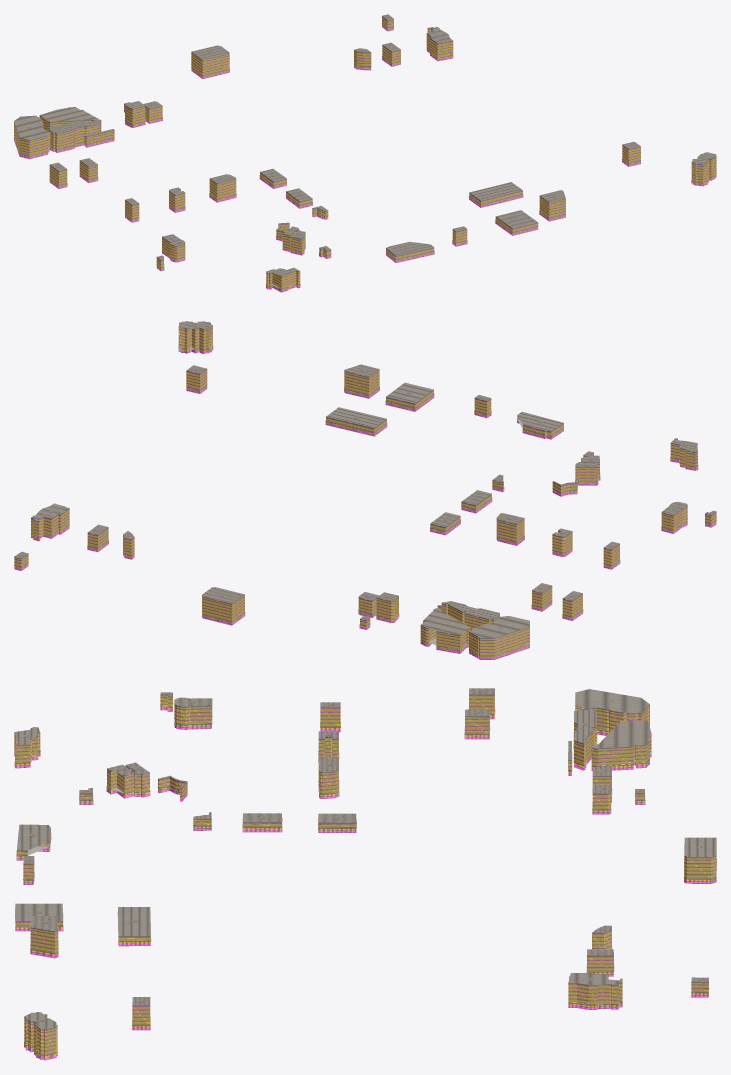
The model's file is urban-context-stage7.glb.
The picture shows the model from 3 angles, top to bottom: view 1: azimuth 30°, elevation 25°; view 2: azimuth 150°, elevation 25°; view 3: azimuth 270°, elevation 25°; orthographic projection. The views are drawn at different scales.
Visible parts, largest first — view 1: urban-context-Cms-786_544, urban-context-Cms-703_504, urban-context-Cr1021907, urban-context-Cw369461998, urban-context-Cms-676_567, urban-context-Cms221_515, urban-context-Cw1357107466, urban-context-Cw369464177, urban-context-Cw347233389, urban-context-Cms-673_-357, urban-context-Cw522127205, urban-context-Cw369085866 (+2 smaller); view 2: urban-context-Cms-786_544, urban-context-Cms-676_567, urban-context-Cr1021907, urban-context-Cw369461998, urban-context-Cms221_515, urban-context-Cw347233389, urban-context-Cw522127205, urban-context-Cw1357107466, urban-context-Cms-703_504, urban-context-Cw369464177, urban-context-Cw369085866, urban-context-Cms-673_-357 (+5 smaller); view 3: urban-context-Cms-676_567, urban-context-Cms-786_544, urban-context-Cms221_515, urban-context-Cr1021907, urban-context-Cw347233389, urban-context-Cw369461998, urban-context-Cms-703_504, urban-context-Cw625727566, urban-context-Cw522127205, urban-context-Cw369464177, urban-context-Cw1357107466, urban-context-Cms-673_-357 (+11 smaller).
Part boxes in pixels (x1,y1,x2,y2): urban-context-Cms-786_544: [14, 115, 50, 159]; urban-context-Cms-703_504: [49, 119, 101, 152]; urban-context-Cr1021907: [191, 45, 229, 78]; urban-context-Cw369461998: [469, 182, 523, 207]; urban-context-Cms-676_567: [39, 107, 98, 131]; urban-context-Cms221_515: [426, 27, 453, 61]; urban-context-Cw1357107466: [495, 210, 538, 235]; urban-context-Cw369464177: [386, 242, 434, 262]; urban-context-Cw347233389: [691, 152, 716, 186]; urban-context-Cms-673_-357: [266, 267, 300, 292]; urban-context-Cw522127205: [539, 190, 565, 221]; urban-context-Cw369085866: [209, 174, 236, 202]; urban-context-Cms-786_544: [469, 616, 529, 659]; urban-context-Cms-676_567: [420, 608, 470, 653]; urban-context-Cr1021907: [202, 587, 245, 625]; urban-context-Cw369461998: [325, 407, 387, 436]; urban-context-Cms221_515: [31, 503, 69, 541]; urban-context-Cw347233389: [178, 321, 213, 354]; urban-context-Cw522127205: [344, 364, 379, 398]; urban-context-Cw1357107466: [385, 382, 434, 411]; urban-context-Cms-703_504: [441, 601, 499, 631]; urban-context-Cw369464177: [517, 411, 563, 439]; urban-context-Cw369085866: [496, 513, 524, 545]; urban-context-Cms-673_-357: [670, 438, 698, 470]; urban-context-Cms-676_567: [591, 720, 651, 770]; urban-context-Cms-786_544: [575, 689, 649, 735]; urban-context-Cms221_515: [568, 973, 622, 1009]; urban-context-Cr1021907: [684, 837, 716, 883]; urban-context-Cw347233389: [24, 1012, 57, 1060]; urban-context-Cw369461998: [117, 907, 151, 946]; urban-context-Cms-703_504: [573, 709, 597, 770]; urban-context-Cw625727566: [174, 697, 212, 729]; urban-context-Cw522127205: [30, 916, 58, 958]; urban-context-Cw369464177: [16, 824, 51, 860]; urban-context-Cw1357107466: [15, 903, 63, 931]; urban-context-Cms-673_-357: [14, 727, 40, 768].
Bounding box in the file's own units: 1288 × 52.38 × 1085.
Materials: 1 (1 with a texture image).
